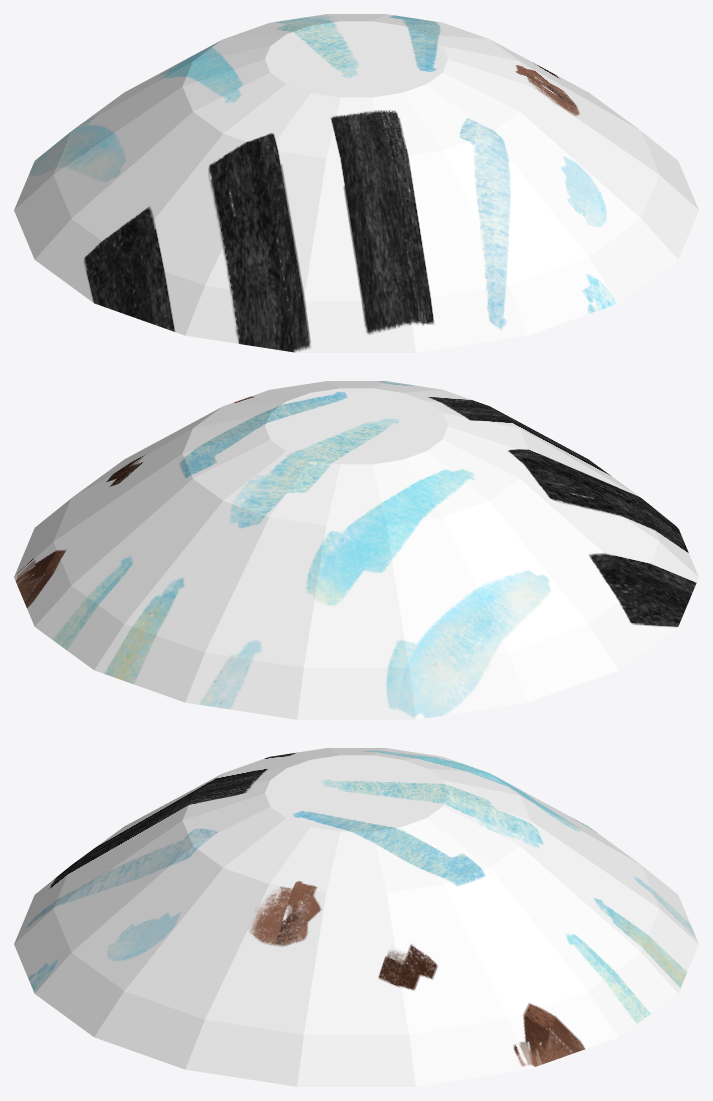
Rendered from Arroz Mesh.fbx.
3 renders of one model, top to bottom at view 1: azimuth 30°, elevation 25°; view 2: azimuth 150°, elevation 25°; view 3: azimuth 270°, elevation 25°, orthographic.
Visible parts, largest first — view 1: Arroz_textura_; view 2: Arroz_textura_; view 3: Arroz_textura_.
Boxes of the visible parts, x1,y1,x2,y2 form: Arroz_textura_: [14, 14, 698, 352]; Arroz_textura_: [14, 381, 698, 719]; Arroz_textura_: [14, 748, 698, 1086].
Size of the model in its own units: 197 by 48.64 by 200.
